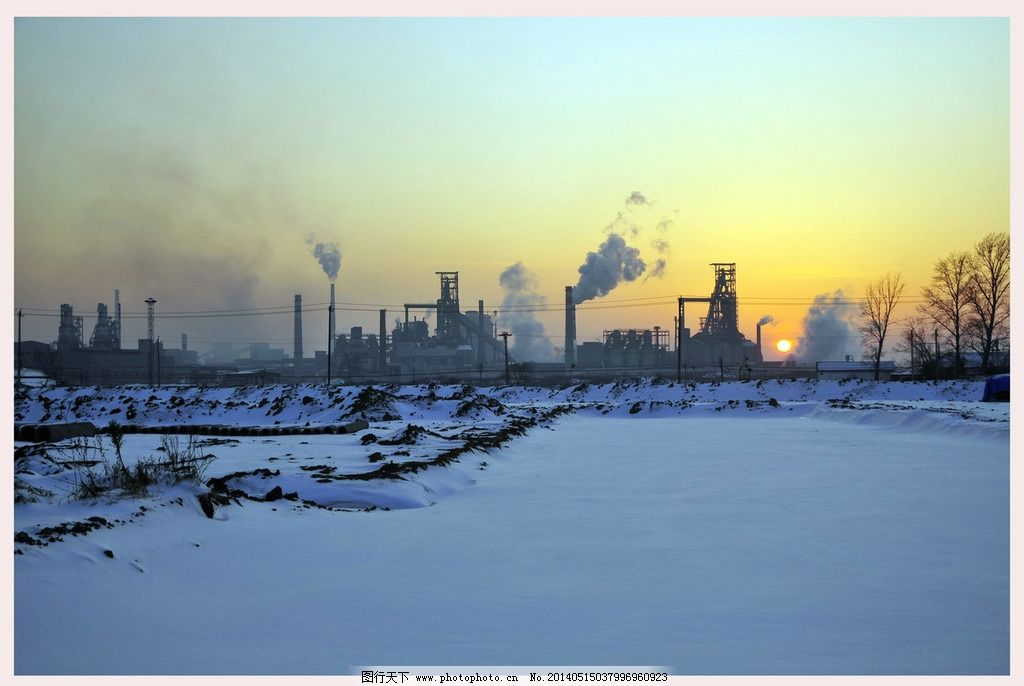dust: (468, 255, 565, 364), (761, 276, 872, 369), (552, 238, 661, 299), (289, 222, 360, 285)
